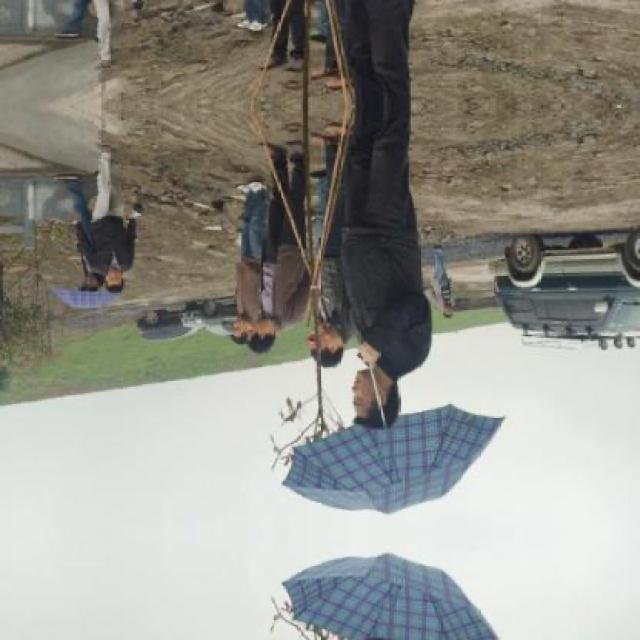sin casco: (291, 310, 407, 366), (326, 370, 409, 435), (231, 281, 294, 341), (250, 293, 302, 348), (93, 256, 152, 296)
